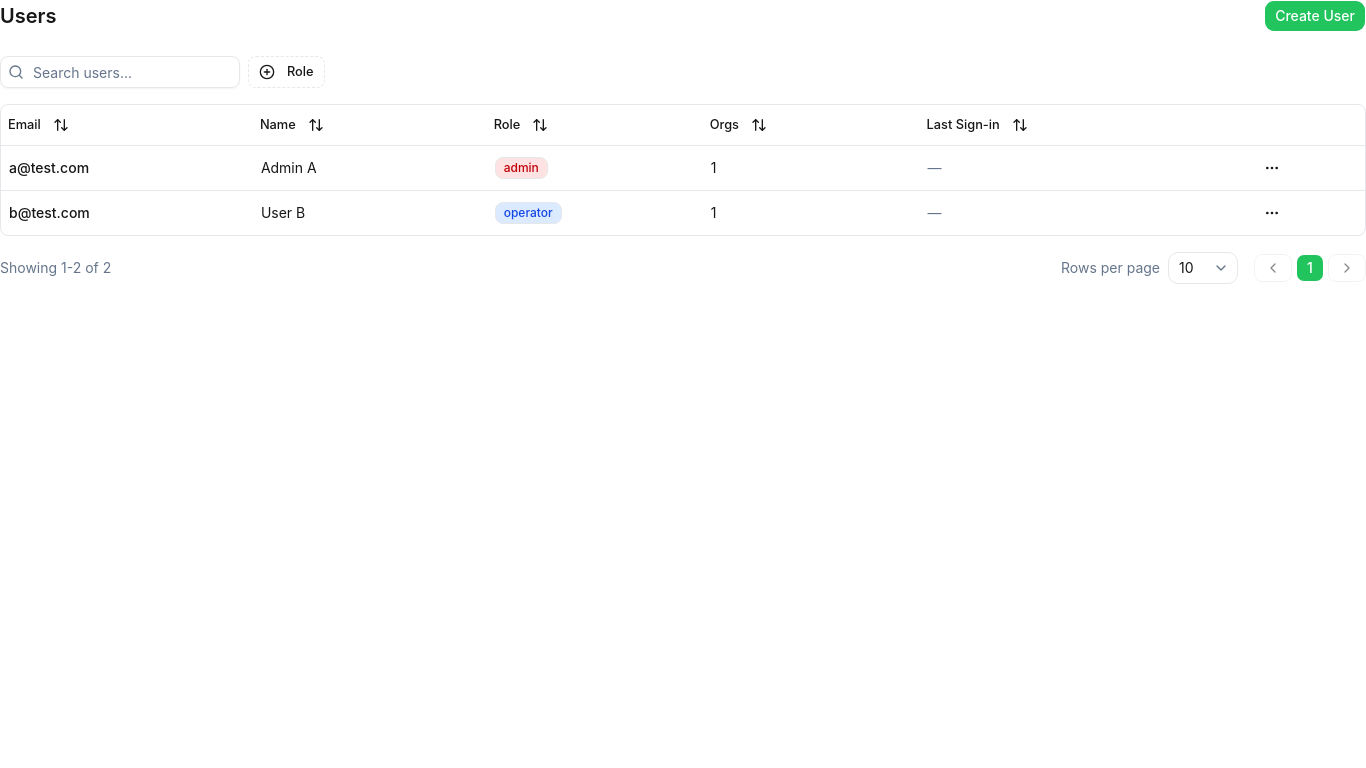
Platform Users page (AUTH-03/AUTH-04) › opens 'Create platform user' dialog with member-role options
Click the button "Create User".
click(1315, 16)  # box [1264,0,1365,32]
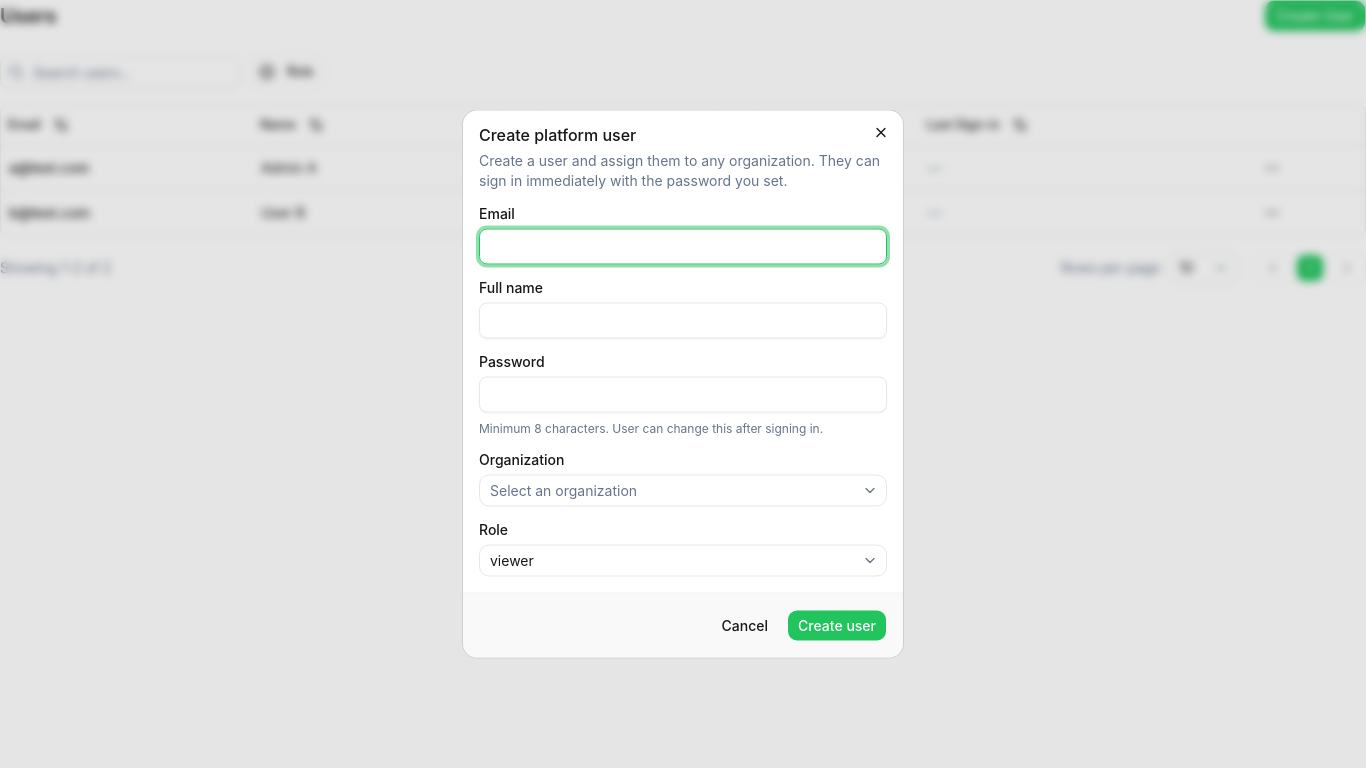
Expected: the heading "Create platform user" is shown, [479,124,636,144]
Expected: the field labelled "Email" is shown, [479,228,887,264]
Expected: the field labelled "Full name" is shown, [479,302,887,338]
